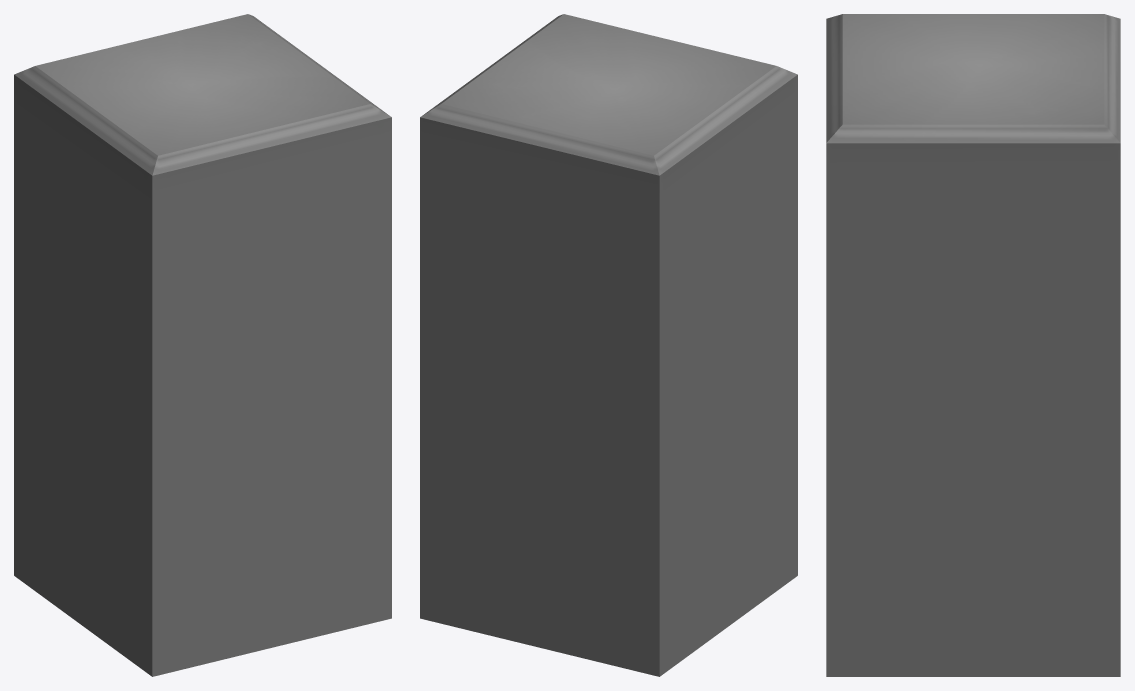
Rendered from SquareTile.FBX.
3 views of the same model, side by side, from view 1: azimuth 30°, elevation 25°; view 2: azimuth 150°, elevation 25°; view 3: azimuth 270°, elevation 25° (orthographic). The views are drawn at different scales.
Visible parts, largest first — view 1: Box001; view 2: Box001; view 3: Box001.
Part boxes in pixels (x1,y1,x2,y2): Box001: (14,14,391,676); Box001: (420,14,797,676); Box001: (826,14,1120,676).
Bounding box in the file's own units: 100 × 204 × 100.
Materials: 1 (1 with a texture image).
